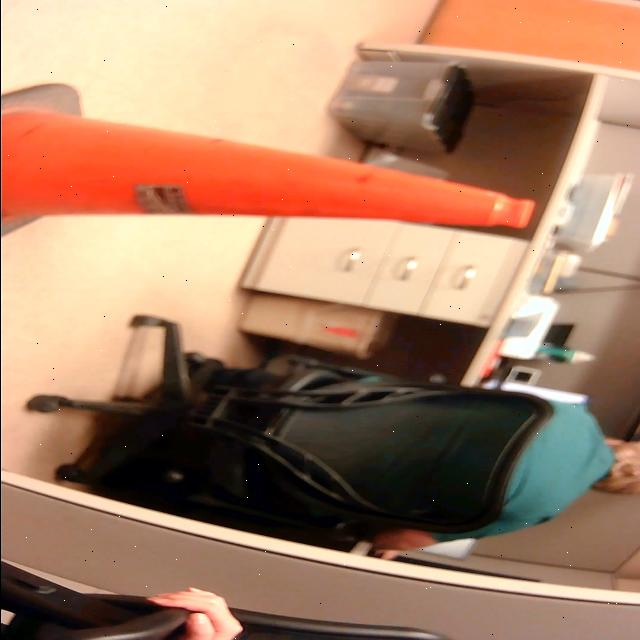traffic cone: (1, 79, 544, 245)
